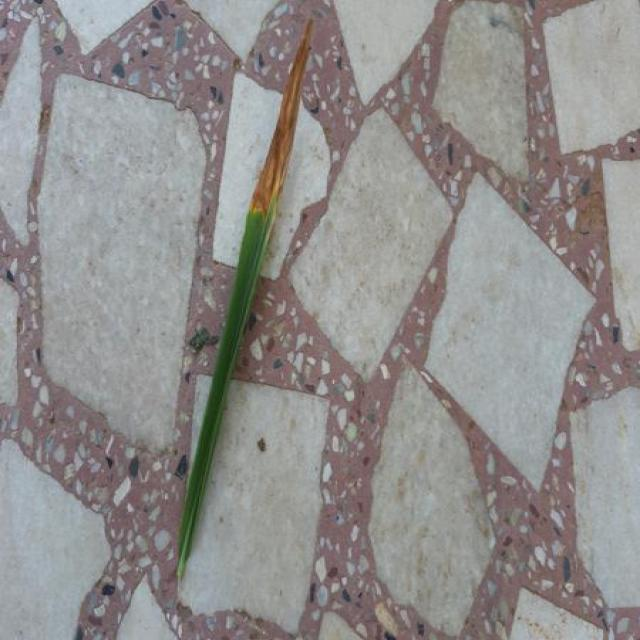bacterial wilt: (213, 74, 282, 263), (272, 106, 327, 254)
ginger: (177, 20, 312, 578)
